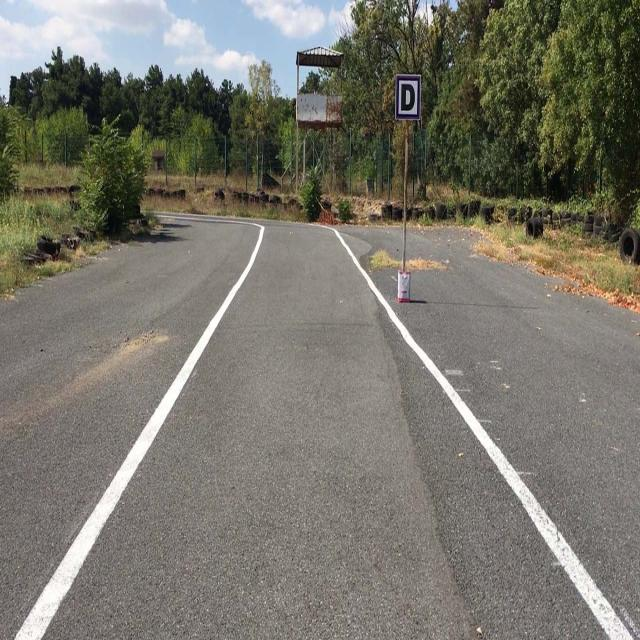durak: (396, 74, 420, 119)
